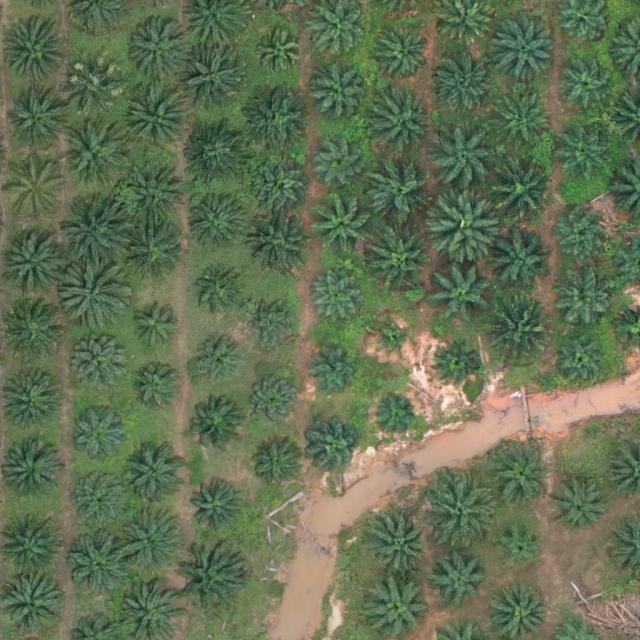Healthy: (434, 191, 505, 262), (425, 478, 496, 549), (4, 227, 74, 298), (61, 259, 131, 330), (61, 201, 131, 272), (185, 117, 255, 188), (368, 88, 438, 159), (367, 156, 437, 227), (431, 259, 501, 330), (434, 125, 504, 196), (174, 544, 245, 614), (114, 504, 184, 575), (180, 47, 250, 117), (240, 85, 310, 155), (367, 220, 437, 290), (489, 13, 559, 83), (489, 154, 559, 224), (488, 292, 558, 362), (4, 90, 67, 153), (2, 374, 65, 437), (64, 125, 127, 188), (129, 91, 192, 154), (489, 231, 552, 294), (550, 273, 613, 336), (70, 530, 133, 593), (5, 19, 67, 82), (3, 159, 65, 222), (3, 442, 65, 505), (70, 404, 133, 466), (127, 22, 189, 85), (126, 164, 188, 227), (125, 221, 187, 284), (124, 444, 187, 506), (186, 191, 248, 254), (250, 207, 312, 270), (312, 193, 374, 256), (494, 84, 556, 147), (491, 446, 553, 509), (437, 54, 499, 116), (371, 514, 433, 576), (128, 360, 183, 416), (74, 470, 129, 526), (249, 439, 304, 494), (194, 269, 249, 324), (125, 303, 180, 358), (187, 397, 242, 452), (253, 162, 308, 217), (311, 60, 366, 115), (316, 136, 371, 191), (311, 273, 366, 328), (307, 339, 362, 394), (309, 423, 364, 478), (378, 31, 433, 86), (556, 56, 611, 111), (557, 129, 612, 184), (554, 480, 609, 535), (190, 483, 245, 538), (246, 373, 300, 428), (246, 297, 300, 352), (190, 334, 244, 389), (75, 342, 129, 397), (253, 26, 307, 81), (555, 208, 609, 263), (556, 335, 610, 390), (432, 556, 486, 611)
Small: (497, 523, 544, 571), (432, 340, 479, 387), (374, 392, 421, 439), (374, 322, 414, 362)
Yellow: (64, 64, 126, 127)
